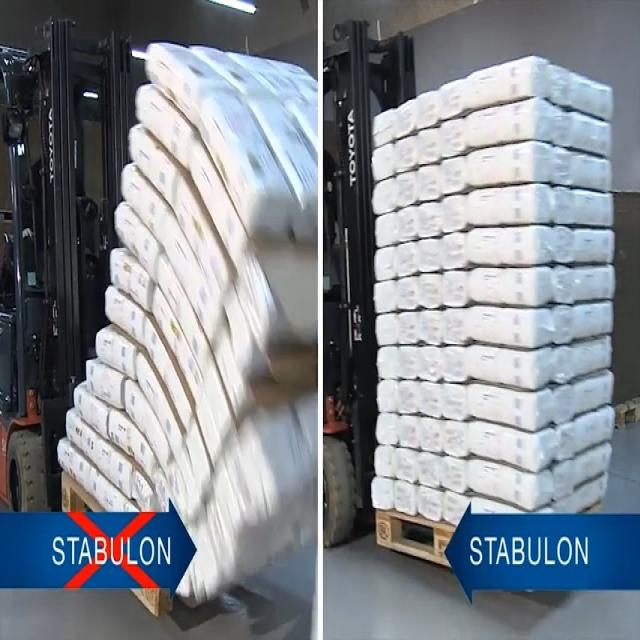Chariot elevateur: (0, 0, 141, 517), (320, 17, 418, 547)
Palette: (372, 506, 460, 570), (56, 464, 104, 515), (612, 389, 640, 434)
